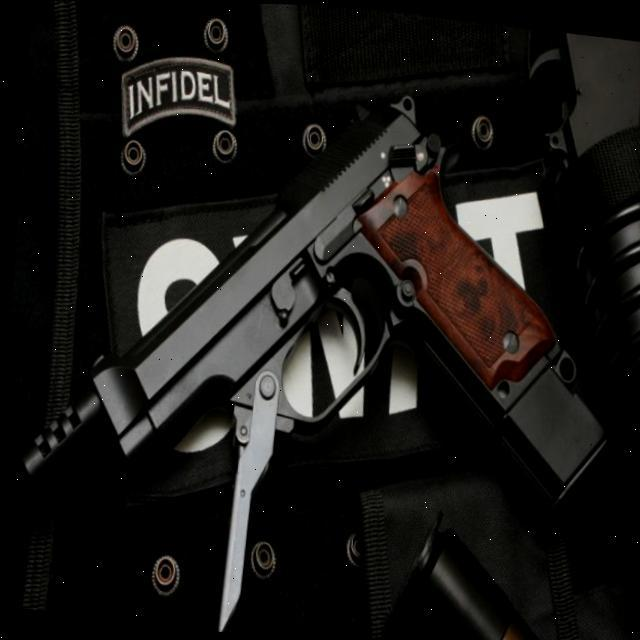gun: (10, 55, 638, 548)
